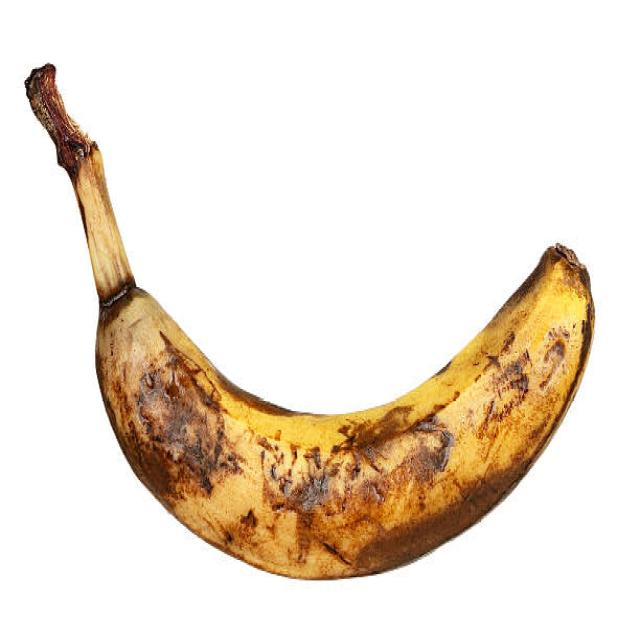overripe: (71, 148, 599, 584)
